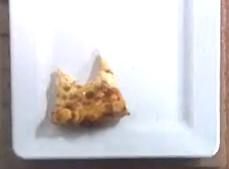pizza_crust: (46, 54, 127, 126)
